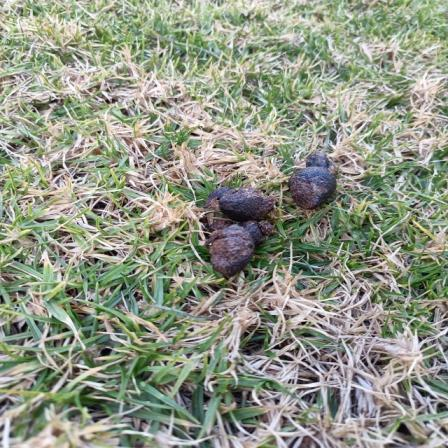dog-poop: (198, 180, 270, 272), (280, 147, 348, 230)
